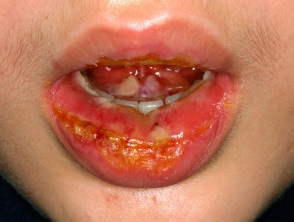SJS-TEN: (46, 89, 224, 185), (64, 44, 221, 82)
